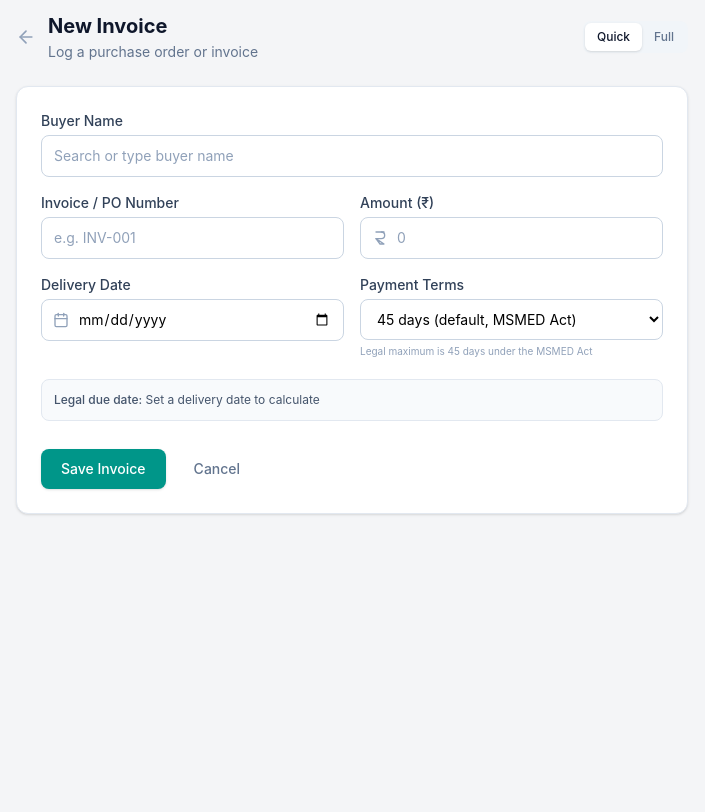
it: AddInvoice - Full Mode › switches to Full Mode and shows additional fields
The width and height of the screenshot is (705, 812).
Click the button "Full".
click(664, 37)  # box top-left (642, 23), bottom-right (686, 51)
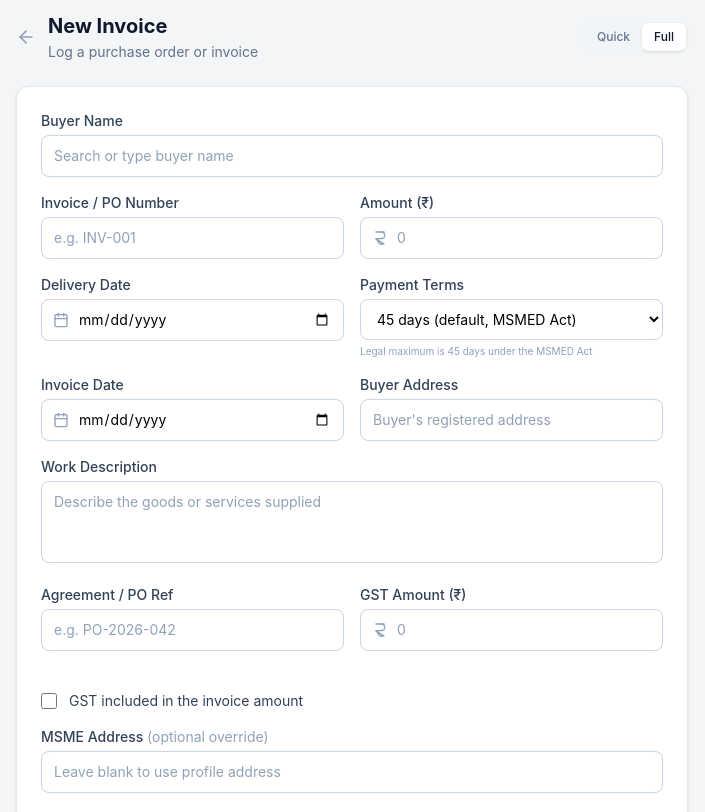
Expected: the text "Invoice Date" is shown, top-left (41, 376), bottom-right (124, 393)
Expected: the text "Buyer Address" is shown, top-left (360, 376), bottom-right (458, 393)
Expected: the text "Work Description" is shown, top-left (41, 458), bottom-right (157, 475)
